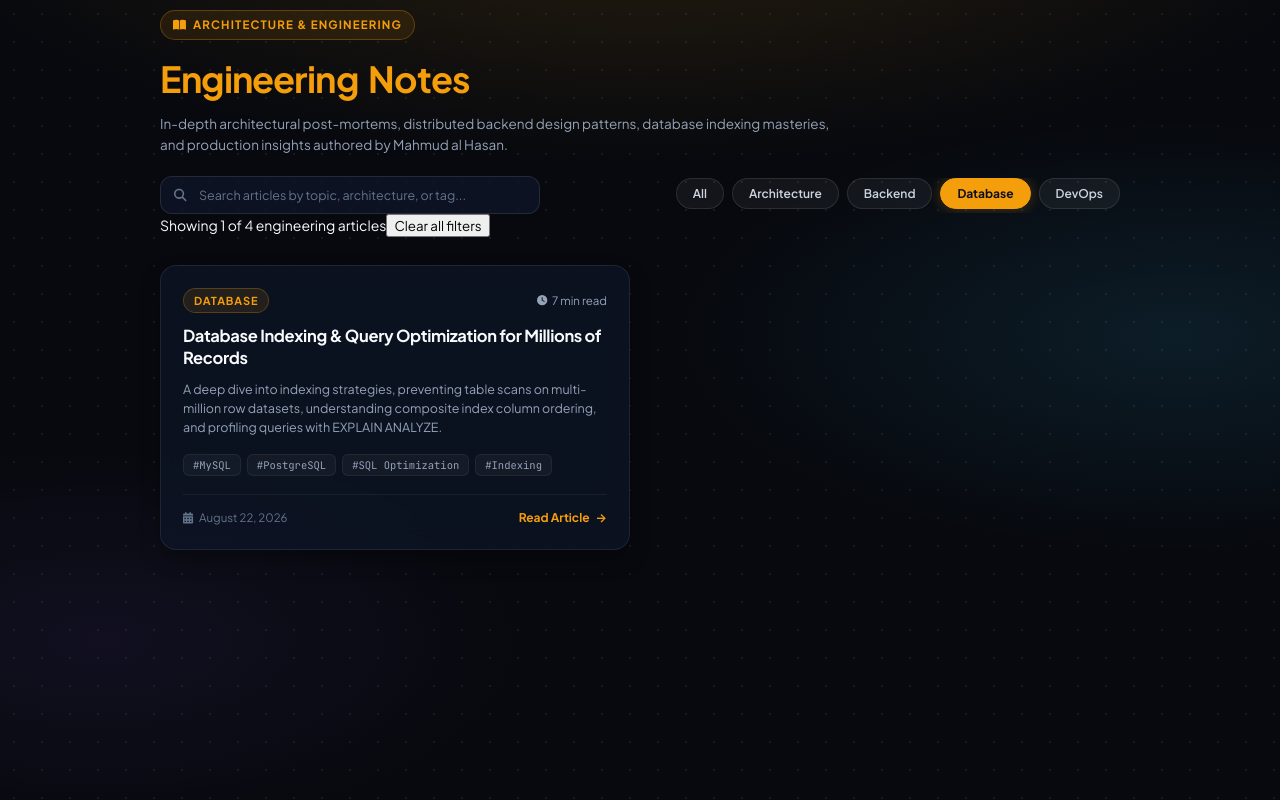
Test: Blog Component › supports deep linking via URL query parameters and displays results meta count
Check: the link "Database Indexing & Query Optimization" is shown, box [183,325,601,368]
Check: the text "Clean Architecture in ASP.NET Core" is not shown
Click the button with aria-label "clear all active filters" at (438, 226), box [386,214,490,237]
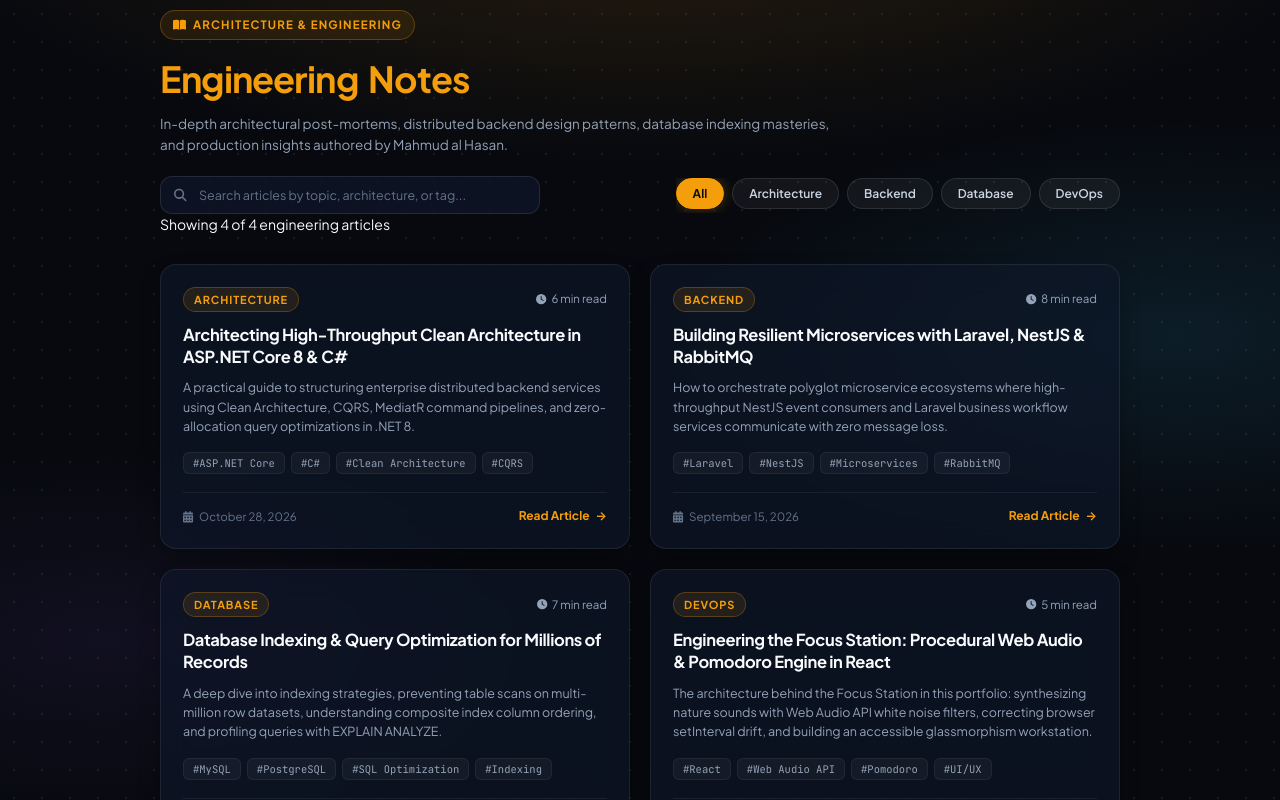
Check: the link "Clean Architecture in ASP.NET Core" is shown, box [183,324,581,367]
